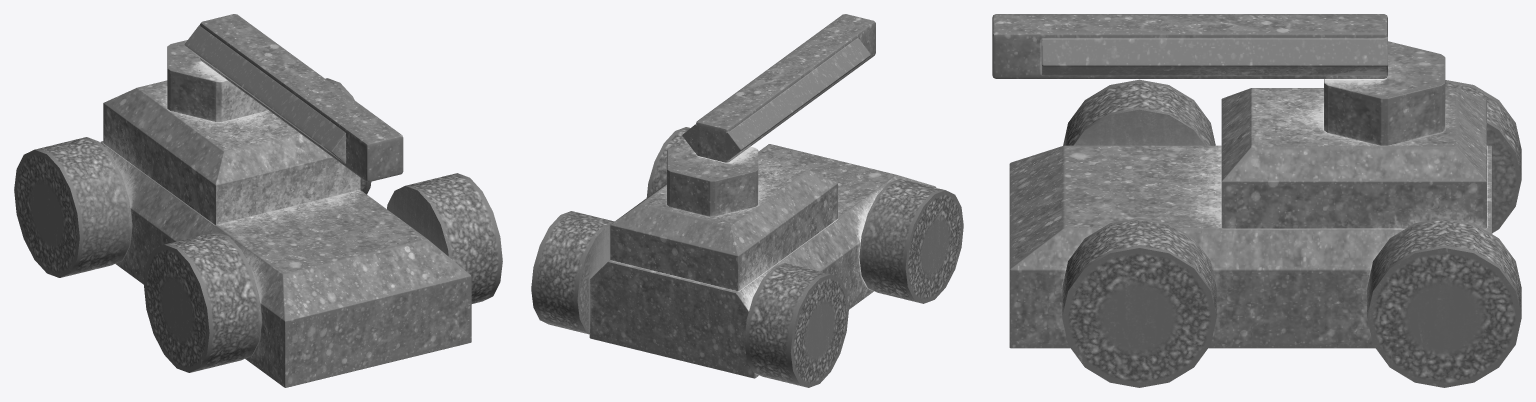
The model's file is jeep.fbx.
3 renders of one model, left to right at view 1: azimuth 30°, elevation 25°; view 2: azimuth 150°, elevation 25°; view 3: azimuth 270°, elevation 25°, orthographic. The views are drawn at different scales.
Visible parts, largest first — view 1: Box004, Cylinder002, Box001, Cylinder001, Box002, Box003, Gengon001; view 2: Box004, Cylinder001, Box001, Cylinder002, Box002, Gengon001, Box003; view 3: Box004, Box001, Cylinder002, Cylinder001, Box002, Box003, Gengon001.
Part boxes in pixels (bbox=[...]): Box004: bbox=[100, 141, 471, 387]; Cylinder002: bbox=[144, 173, 502, 372]; Box001: bbox=[103, 80, 360, 225]; Cylinder001: bbox=[14, 78, 371, 277]; Box002: bbox=[200, 14, 403, 181]; Box003: bbox=[184, 25, 345, 163]; Gengon001: bbox=[167, 40, 267, 121]; Box004: bbox=[589, 144, 936, 378]; Cylinder001: bbox=[531, 211, 848, 387]; Box001: bbox=[610, 157, 837, 291]; Cylinder002: bbox=[646, 127, 963, 303]; Box002: bbox=[696, 14, 875, 162]; Gengon001: bbox=[667, 143, 758, 216]; Box003: bbox=[682, 38, 870, 160]; Box004: bbox=[1009, 145, 1492, 348]; Box001: bbox=[1221, 88, 1486, 228]; Cylinder002: bbox=[1062, 79, 1216, 387]; Cylinder001: bbox=[1367, 80, 1521, 387]; Box002: bbox=[992, 14, 1387, 78]; Box003: bbox=[1041, 37, 1387, 75]; Gengon001: bbox=[1324, 41, 1445, 145].
Bounding box in the file's own units: 98.17 × 76.28 × 131.
